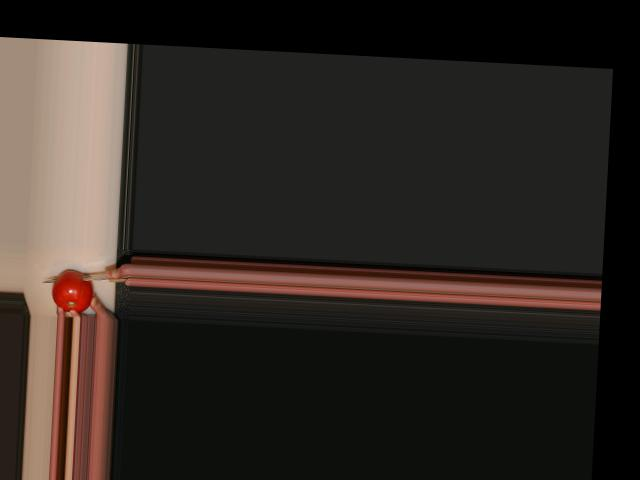tomato: (50, 269, 93, 313)
